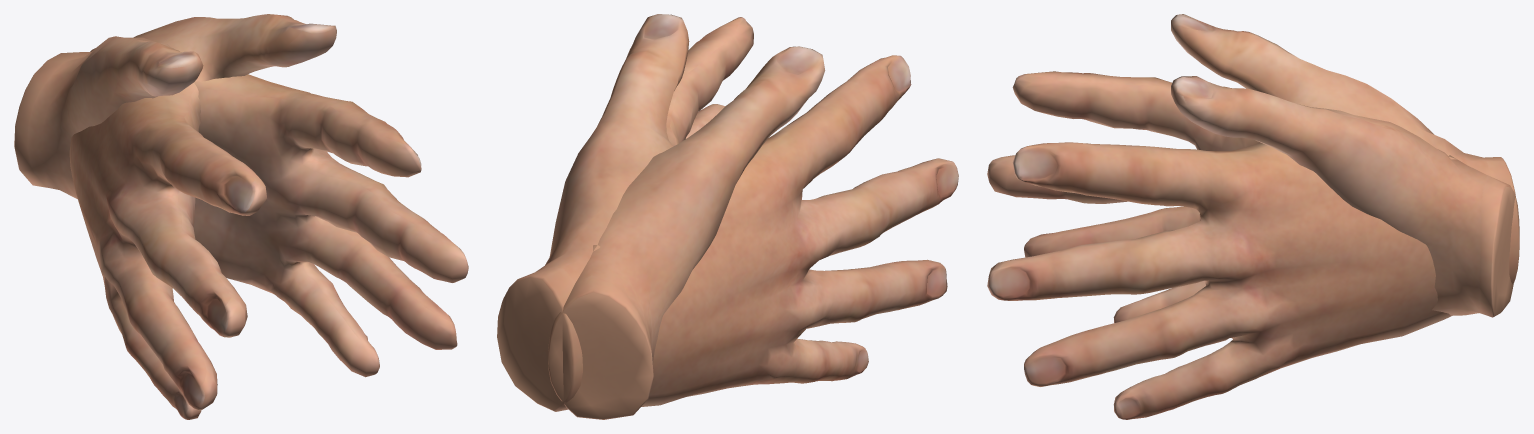
Rendered from hands.fbx.
3 renders of one model, left to right at view 1: azimuth 30°, elevation 25°; view 2: azimuth 150°, elevation 25°; view 3: azimuth 270°, elevation 25°, orthographic. The views are drawn at different scales.
Parts seen in each view (by area): view 1: left_hand, right_hand; view 2: right_hand, left_hand; view 3: left_hand, right_hand.
Part boxes in pixels (<box>): left_hand: <box>14,36,468,377</box>; right_hand: <box>69,14,336,419</box>; right_hand: <box>497,14,958,411</box>; left_hand: <box>548,17,825,419</box>; left_hand: <box>987,14,1519,419</box>; right_hand: <box>987,71,1519,322</box>.
Size of the model in its own units: 11.36 by 13.88 by 20.52.
